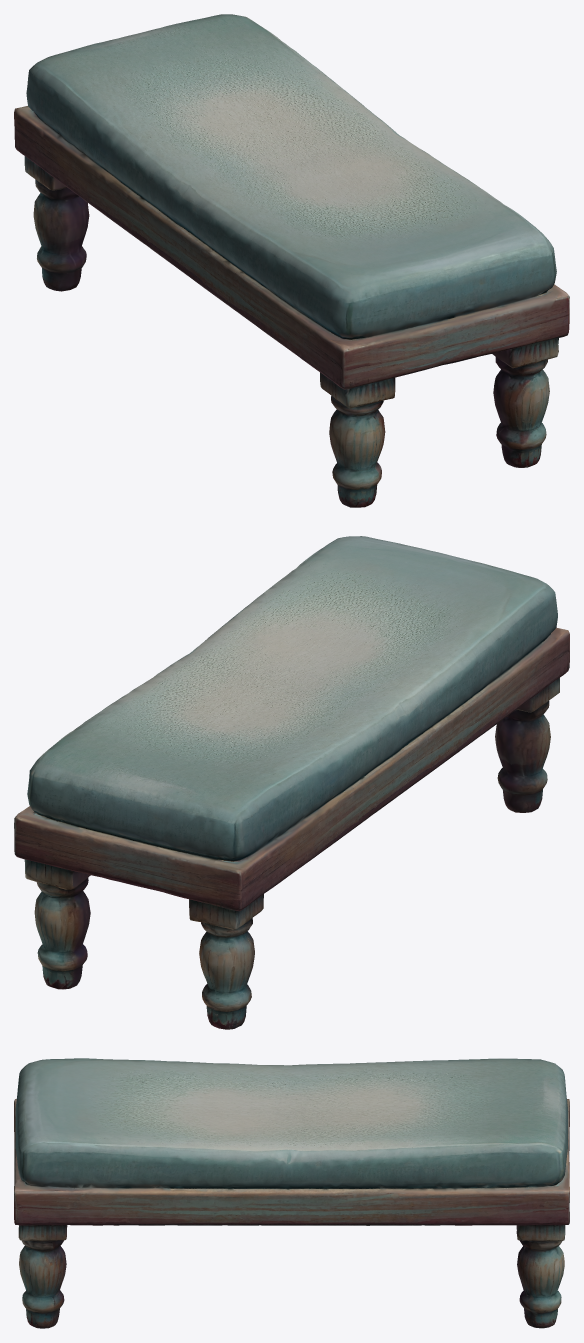
Rendered from Furn_BedBench.fbx.
3 views of the same model, one above another, from view 1: azimuth 30°, elevation 25°; view 2: azimuth 150°, elevation 25°; view 3: azimuth 270°, elevation 25° (orthographic). The views are drawn at different scales.
Visible parts, largest first — view 1: texture_mapping; view 2: texture_mapping; view 3: texture_mapping.
Part boxes in pixels (bbox=[...]): texture_mapping: bbox=[14, 14, 569, 507]; texture_mapping: bbox=[14, 536, 569, 1029]; texture_mapping: bbox=[14, 1058, 569, 1328].
Size of the model in its own units: 0.4026 by 0.9999 by 0.3808.
1 material, 1 textured.
